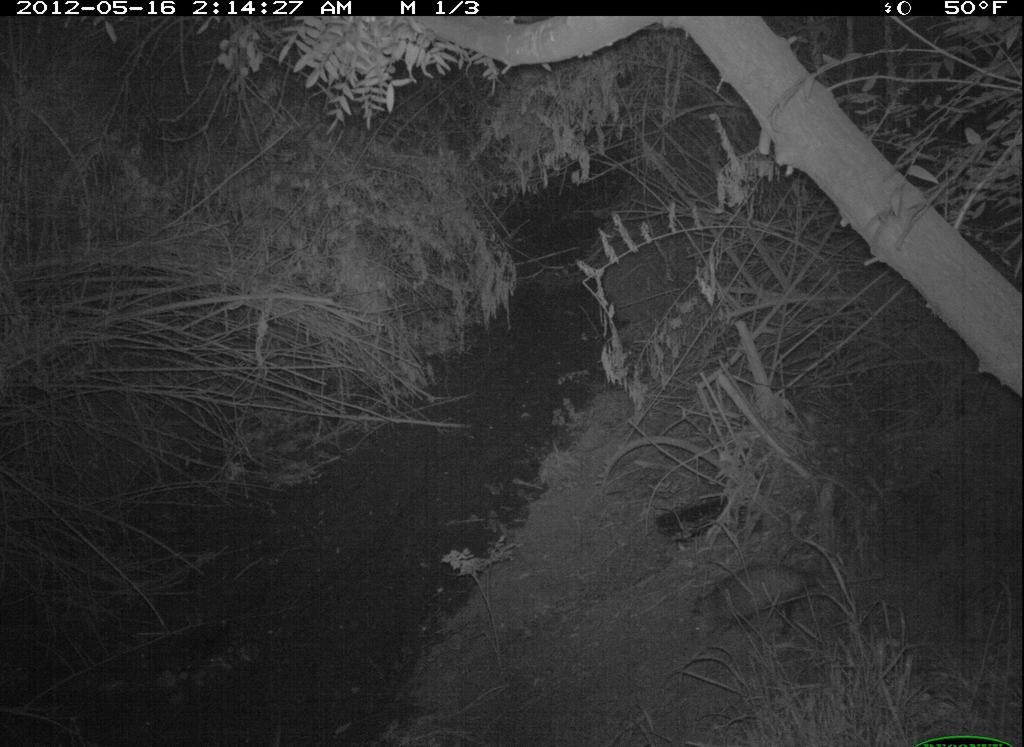opossum: (679, 551, 889, 653)
